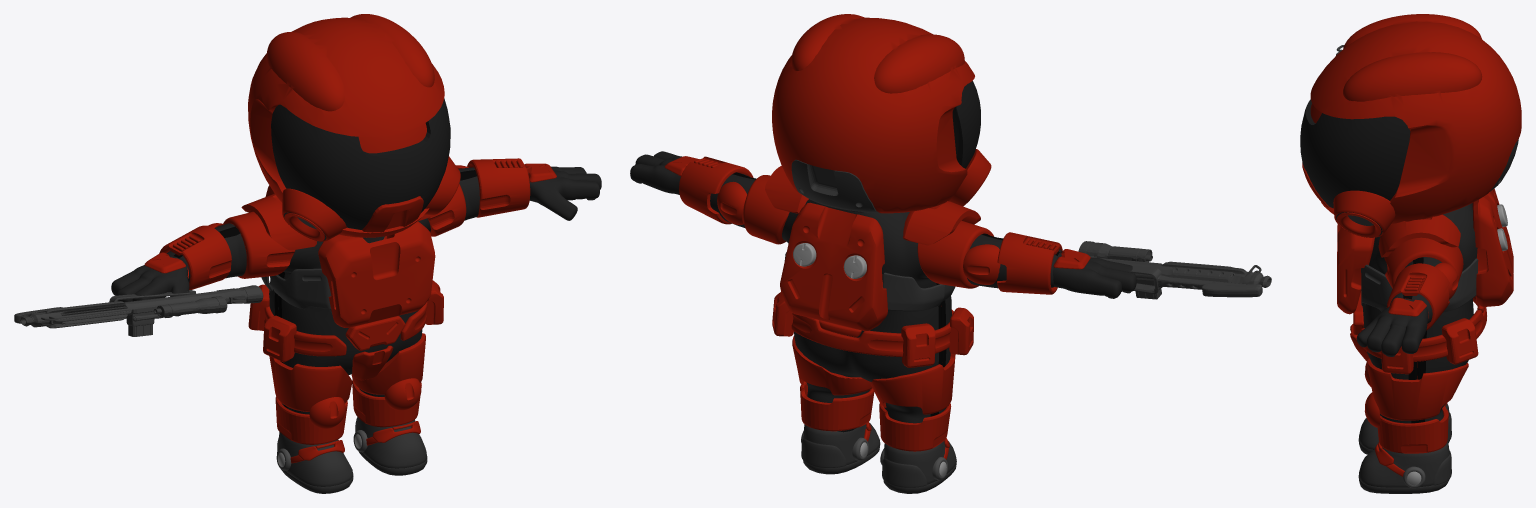
File: TROOPER.fbx
3 renders of one model, left to right at view 1: azimuth 30°, elevation 25°; view 2: azimuth 150°, elevation 25°; view 3: azimuth 270°, elevation 25°, orthographic. The views are drawn at different scales.
Visible parts, largest first — view 1: HELMET, CHEST, UTILITY BELT, UNIFORM, wepon.001, GLOVE.012, BOOT.004, BOOT.002, THIGH.001, FOREARM, FOREARM.001, ARM.001 (+7 smaller); view 2: HELMET, CHEST, UNIFORM, UTILITY BELT, wepon.001, GLOVE.012, BOOT.002, FOREARM.001, BOOT.004, THIGH.001, ARM.001, FOREARM (+8 smaller); view 3: HELMET, CHEST, UNIFORM, BOOT.002, THIGH, UTILITY BELT, GLOVE.012, SHIN, FOREARM, SHOULDER, ARM, BOOT.004 (+3 smaller).
Boxes of the visible parts, <box> form: HELMET: <box>248,14,460,241</box>; CHEST: <box>261,185,435,327</box>; UTILITY BELT: <box>248,280,443,380</box>; UNIFORM: <box>167,167,530,414</box>; wepon.001: <box>14,285,263,336</box>; GLOVE.012: <box>111,166,601,316</box>; BOOT.004: <box>276,432,353,493</box>; BOOT.002: <box>353,417,427,475</box>; THIGH.001: <box>269,356,352,411</box>; FOREARM: <box>467,158,530,217</box>; FOREARM.001: <box>159,225,231,289</box>; ARM.001: <box>223,211,295,278</box>; HELMET: <box>772,14,991,213</box>; CHEST: <box>780,202,955,330</box>; UNIFORM: <box>710,172,1061,432</box>; UTILITY BELT: <box>772,292,973,367</box>; wepon.001: <box>1078,241,1271,299</box>; GLOVE.012: <box>630,151,1136,298</box>; BOOT.002: <box>801,422,880,474</box>; FOREARM.001: <box>997,232,1062,294</box>; BOOT.004: <box>880,438,956,493</box>; THIGH.001: <box>871,353,955,414</box>; ARM.001: <box>917,220,993,288</box>; FOREARM: <box>679,156,753,224</box>; HELMET: <box>1300,14,1521,237</box>; CHEST: <box>1337,188,1513,314</box>; UNIFORM: <box>1362,203,1477,423</box>; BOOT.002: <box>1358,442,1451,493</box>; THIGH: <box>1367,358,1468,420</box>; UTILITY BELT: <box>1350,291,1486,374</box>; GLOVE.012: <box>1356,299,1428,355</box>; SHIN: <box>1377,405,1448,453</box>; FOREARM: <box>1386,263,1449,330</box>; SHOULDER: <box>1378,214,1460,257</box>; ARM: <box>1384,237,1463,299</box>; BOOT.004: <box>1358,403,1451,454</box>.
Size of the model in its own units: 1433 by 1003 by 460.
